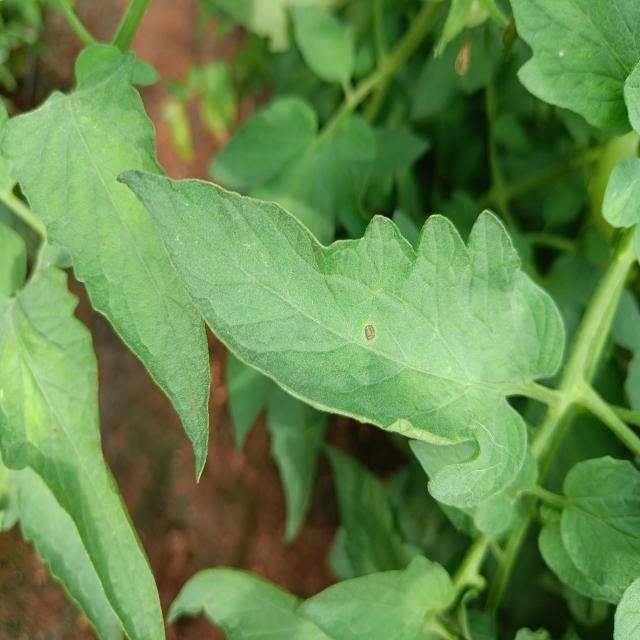Tomato mosaic virus leaf: (115, 163, 568, 515)
